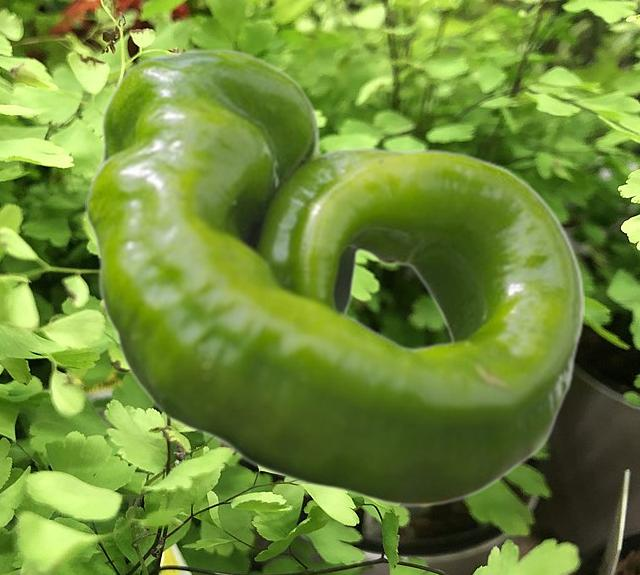green_chili: (85, 48, 583, 506)
